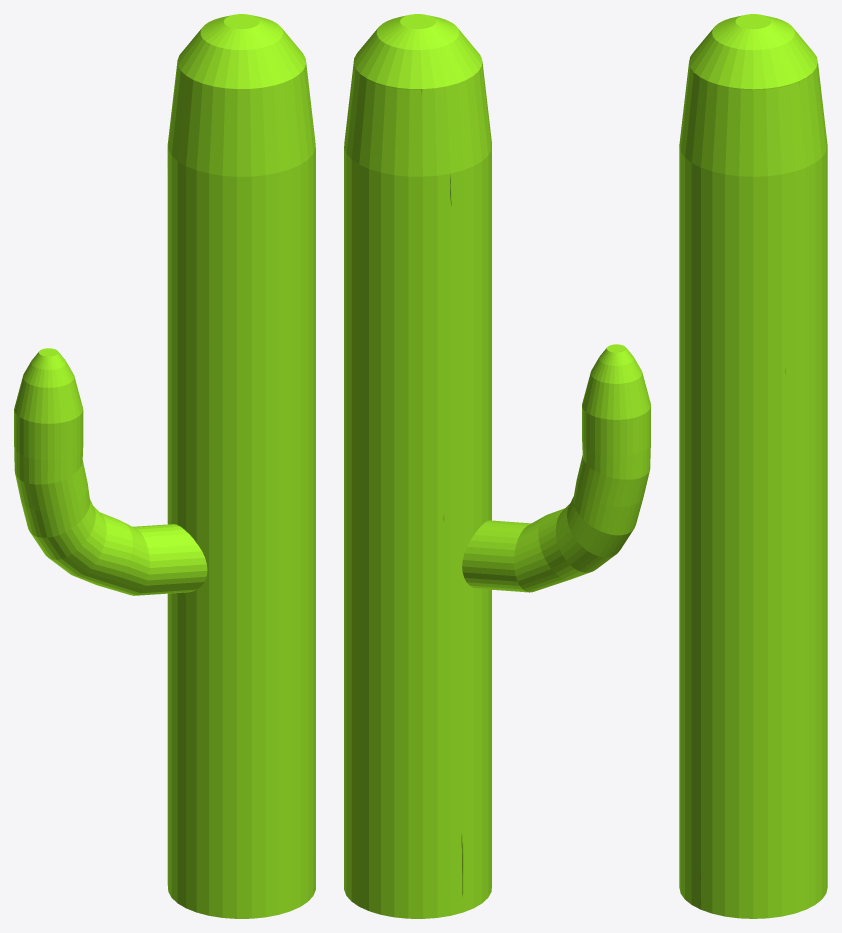
File: cactus2.glb
The picture shows the model from 3 angles, left to right: view 1: azimuth 30°, elevation 25°; view 2: azimuth 150°, elevation 25°; view 3: azimuth 270°, elevation 25°; orthographic projection.
Visible parts, largest first — view 1: Cylinder; view 2: Cylinder; view 3: Cylinder.
Boxes of the visible parts, x1=… form: Cylinder: x1=14, y1=14, x2=315, y2=918; Cylinder: x1=344, y1=14, x2=650, y2=918; Cylinder: x1=679, y1=14, x2=827, y2=918.
Bounding box in the file's own units: 4.02 × 11.47 × 1.78.
Materials: 1 (1 with a texture image).
